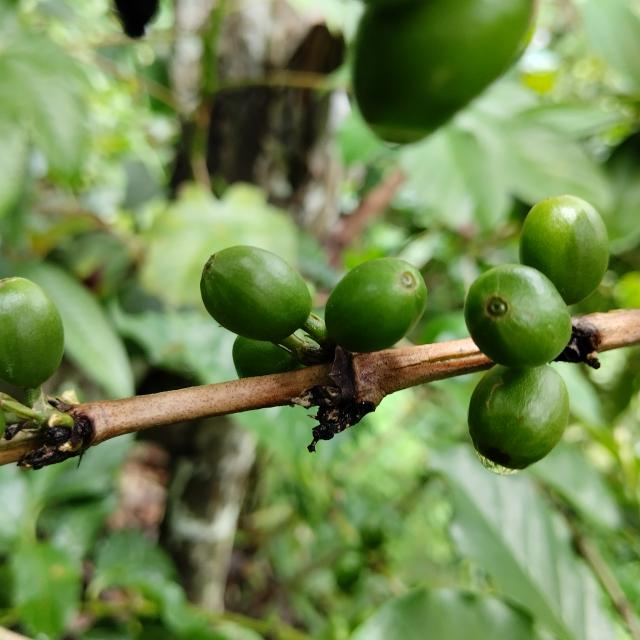green: (465, 264, 573, 369), (200, 245, 312, 343), (469, 365, 570, 470), (520, 195, 610, 305), (325, 258, 428, 353), (0, 277, 63, 389), (232, 336, 299, 378)
